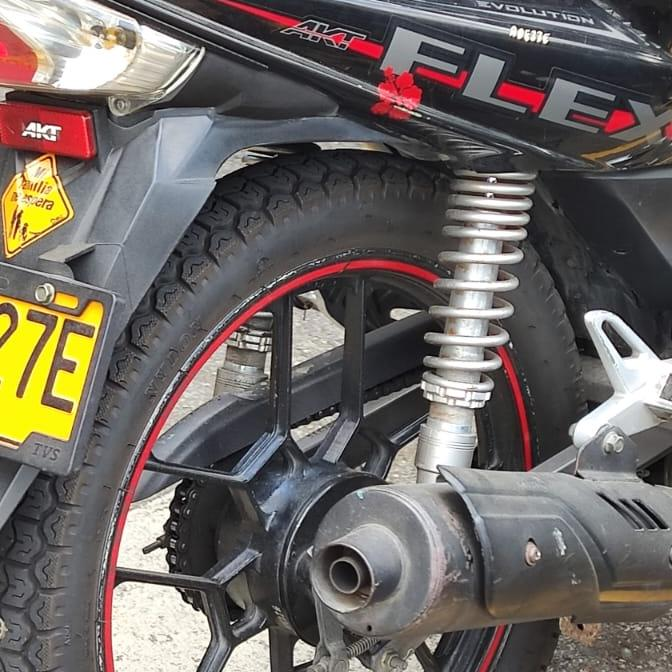plates: (0, 271, 112, 471)
